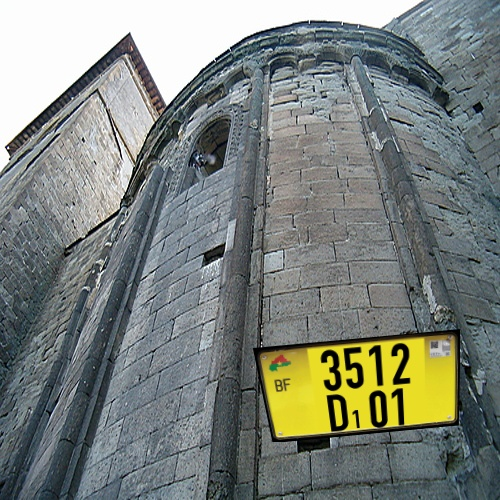plate: (246, 318, 473, 445)
